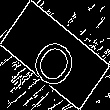O_NE: (26, 22, 84, 88)
